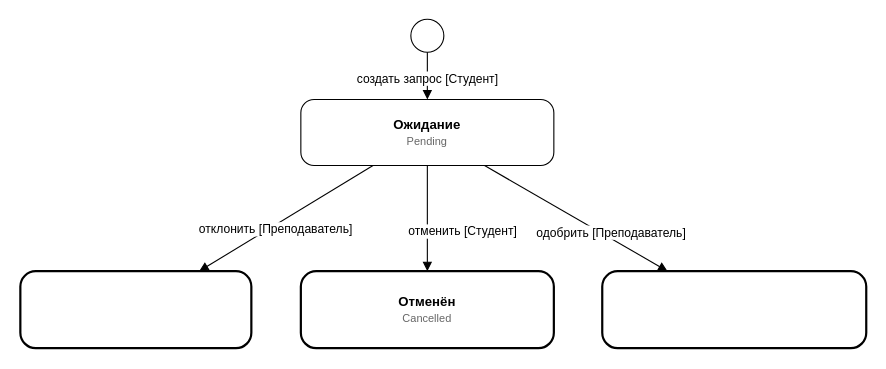
Some shapes in this 886 by 369 pixel diagram are drawn without their labels. The shapes that lost their labels are listed below. From the top down, each one's centre as x and y in pixels, then its label:
At pixel 135 309: "Отклонён научруком RejectedBySupervisor".
At pixel 734 309: "Одобрен научруком ApprovedBySupervisor".
